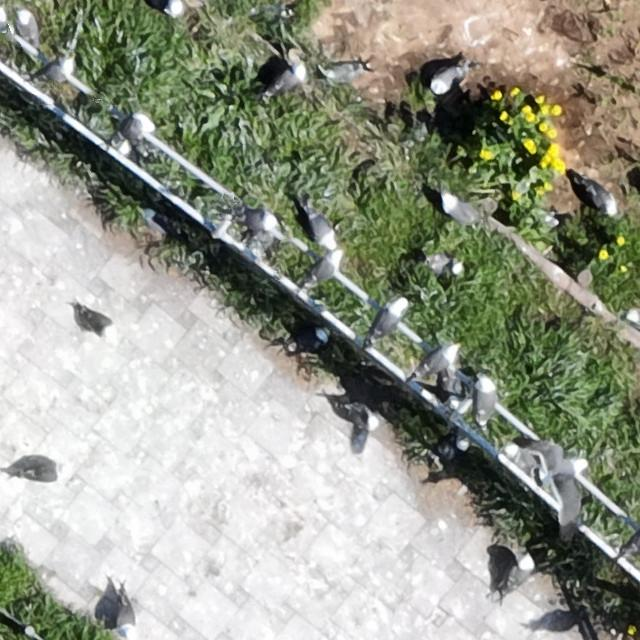F: (535, 430, 590, 529)
umineko: (13, 448, 76, 488), (335, 391, 380, 439), (306, 246, 348, 295), (416, 341, 465, 380), (499, 556, 533, 596), (124, 110, 158, 149), (111, 595, 141, 639), (268, 62, 305, 92), (39, 57, 77, 85), (584, 182, 616, 215), (308, 212, 334, 248), (431, 65, 464, 93), (374, 302, 401, 334), (80, 307, 113, 333), (240, 212, 280, 232), (476, 380, 494, 422), (444, 196, 474, 221), (323, 62, 362, 81), (16, 10, 38, 41), (292, 330, 325, 349), (147, 1, 179, 15), (627, 308, 639, 332)
